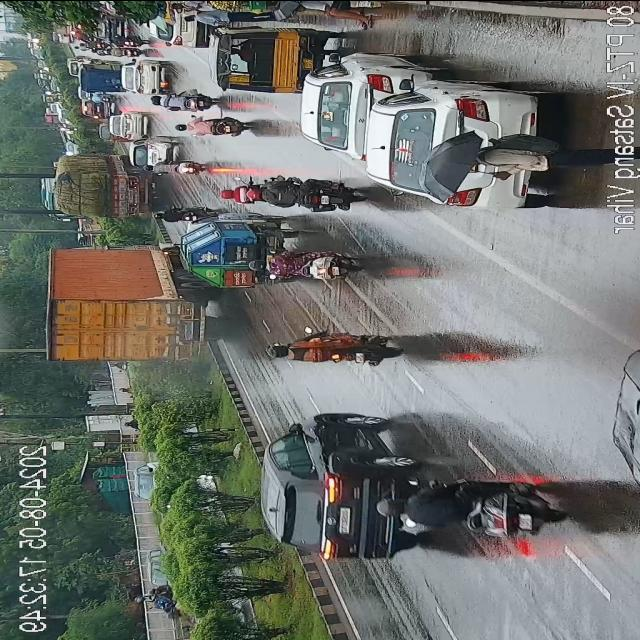2-wheelers: (369, 474, 566, 539), (240, 172, 366, 216), (262, 330, 398, 364), (255, 246, 358, 286), (170, 116, 250, 138), (128, 583, 172, 612), (152, 206, 217, 222), (150, 94, 222, 108), (150, 158, 203, 176), (218, 185, 264, 202), (106, 46, 142, 57), (108, 36, 147, 46), (86, 94, 118, 102), (102, 76, 123, 85), (80, 40, 102, 46), (92, 46, 106, 54)
auto: (50, 156, 154, 224), (210, 24, 310, 94), (610, 338, 640, 474)
car: (260, 397, 414, 558), (371, 74, 488, 198), (301, 57, 407, 155), (123, 58, 163, 96), (132, 138, 176, 171), (112, 111, 148, 142), (75, 100, 113, 120), (95, 18, 124, 38)
pedestrian: (426, 130, 558, 196), (278, 0, 380, 32), (183, 10, 274, 22), (168, 1, 213, 10)
truck: (46, 242, 225, 374), (178, 212, 282, 288), (76, 64, 123, 90)
